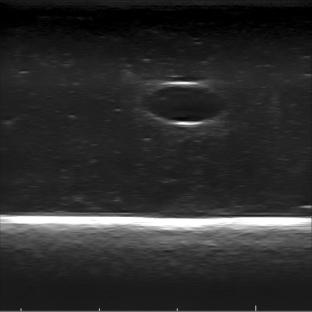vessel: (139, 81, 228, 128)
